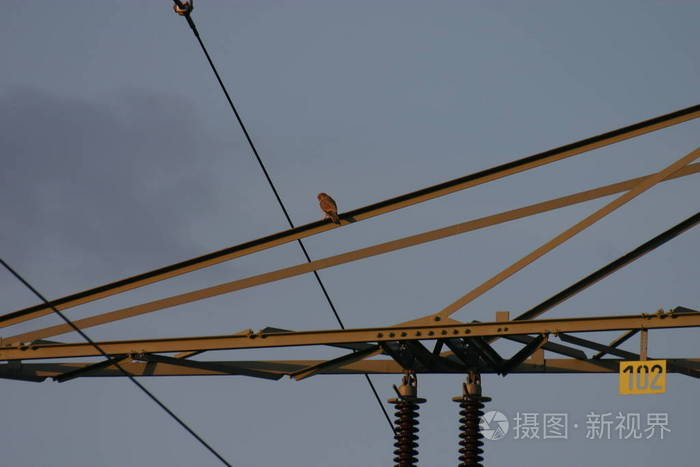insulator: (454, 397, 489, 467), (391, 400, 423, 467)
